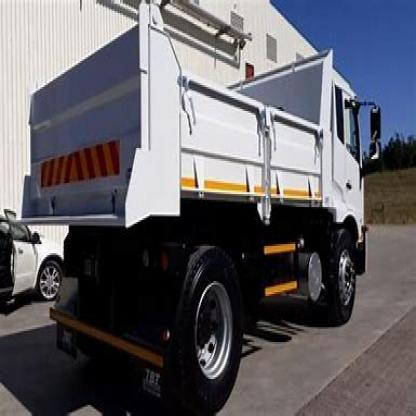dump_truck: (18, 6, 390, 408)
